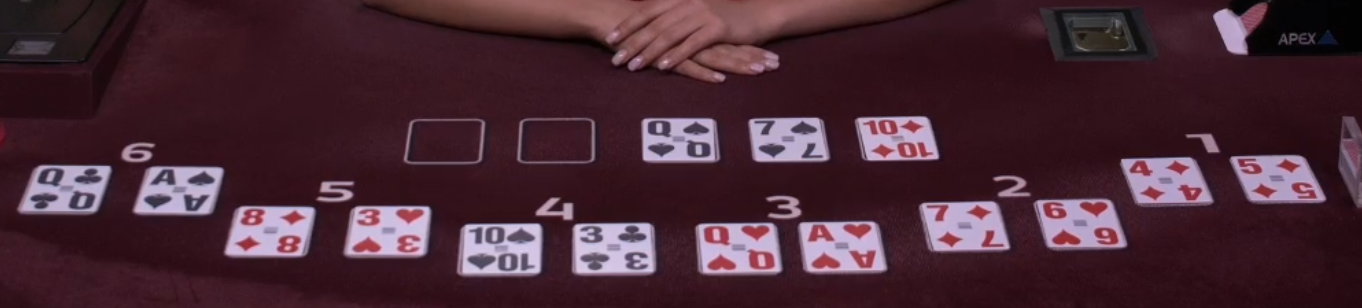10d: (850, 115, 946, 165)
10s: (445, 218, 553, 282)
3c: (568, 214, 667, 283)
3h: (335, 194, 441, 263)
4d: (1118, 151, 1218, 211)
5d: (1224, 148, 1332, 208)
6h: (1028, 194, 1133, 252)
7d: (915, 196, 1017, 256)
7s: (745, 112, 836, 167)
8d: (224, 202, 320, 264)
ash: (794, 216, 895, 276)
ass: (130, 156, 225, 223)
qc: (17, 157, 114, 217)
qh: (692, 217, 788, 281)
qs: (637, 111, 727, 172)
